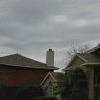Chimney: (40, 40, 58, 72)
